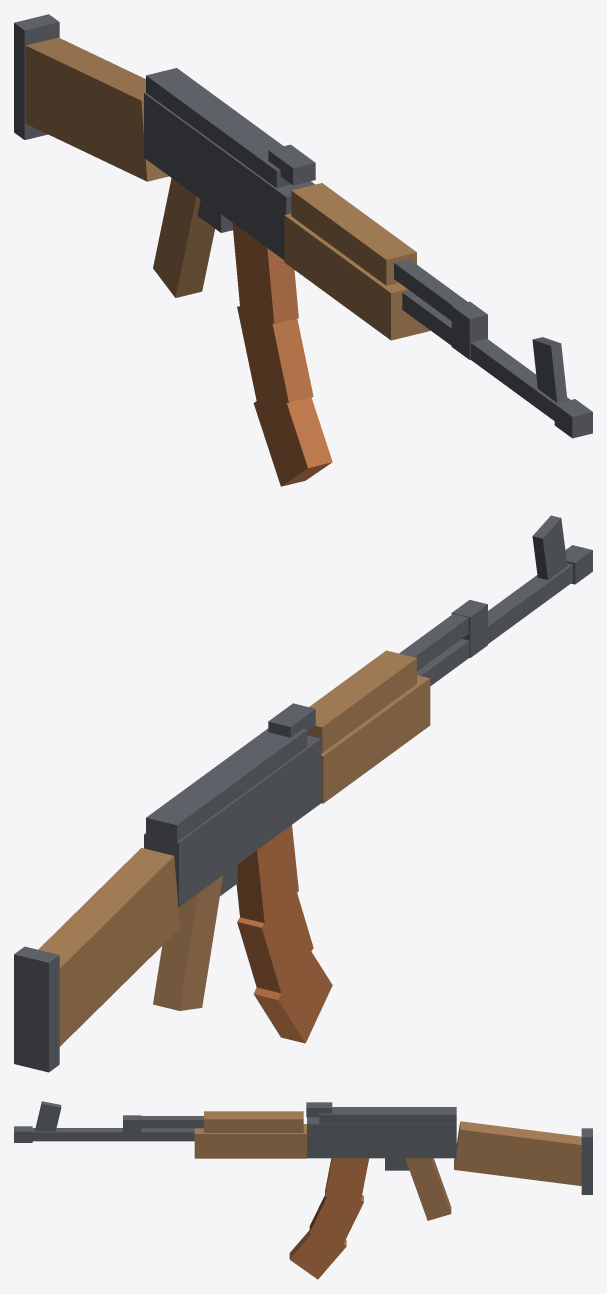
The picture shows the model from 3 angles, top to bottom: view 1: azimuth 30°, elevation 25°; view 2: azimuth 150°, elevation 25°; view 3: azimuth 270°, elevation 25°; orthographic projection. The views are drawn at different scales.
Visible parts, largest first — view 1: SM_AK47; view 2: SM_AK47; view 3: SM_AK47.
Boxes of the visible parts, x1,y1,x2,y2 form: SM_AK47: [14, 14, 592, 486]; SM_AK47: [14, 515, 592, 1072]; SM_AK47: [14, 1101, 592, 1279].
Bounding box in the file's own units: 0.038 × 0.3082 × 0.929.
